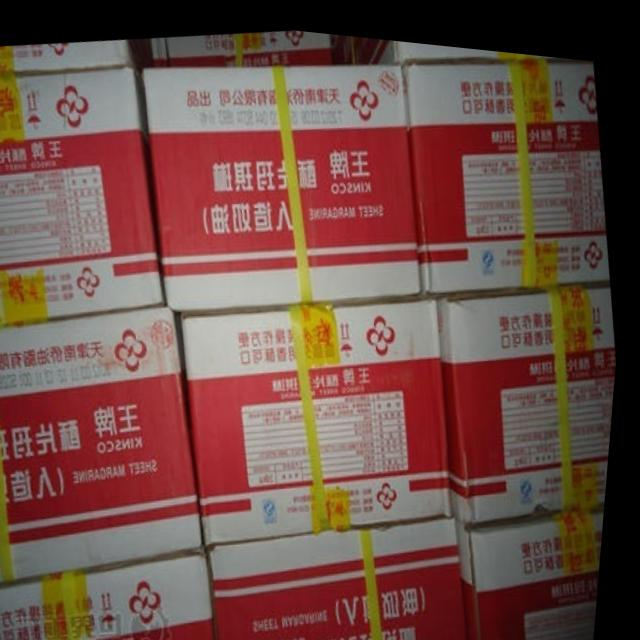box: (143, 57, 427, 309), (183, 286, 459, 541), (0, 305, 211, 588), (403, 50, 614, 288), (0, 66, 172, 327), (441, 270, 621, 519), (216, 509, 480, 640), (2, 543, 227, 640), (465, 497, 611, 640), (331, 27, 588, 58), (147, 24, 335, 66), (0, 37, 150, 78)
